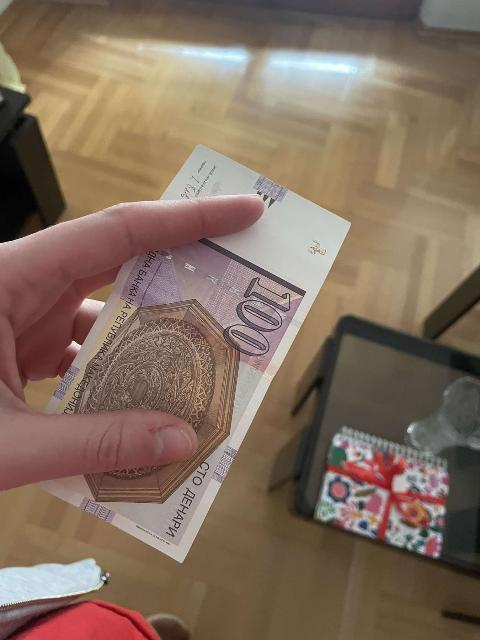100_note: (41, 147, 349, 561)
